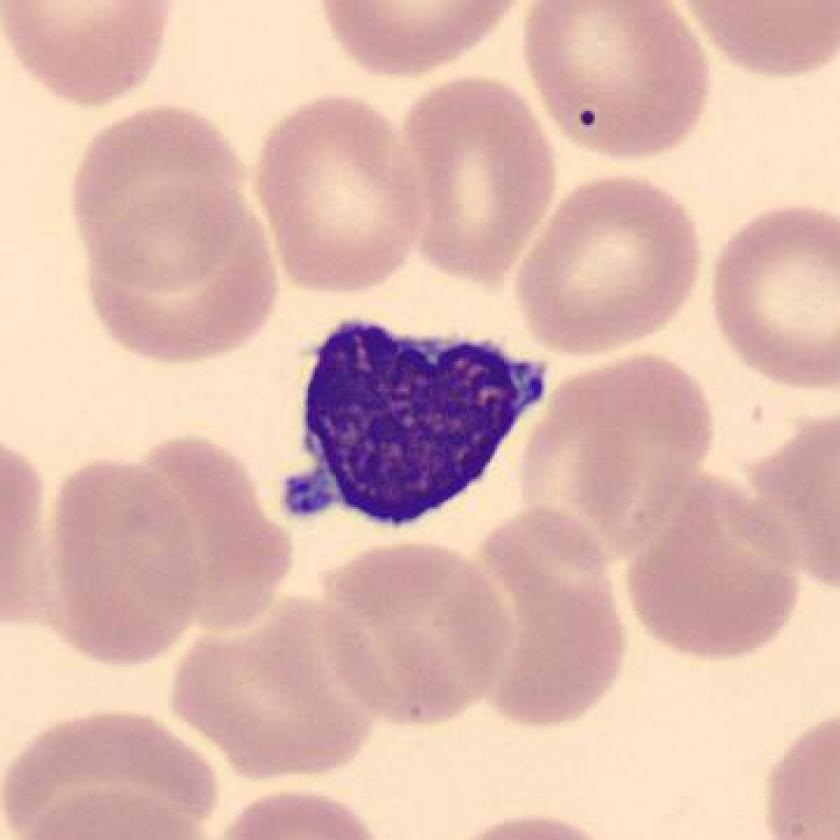lymphocyte: (274, 295, 563, 556)
